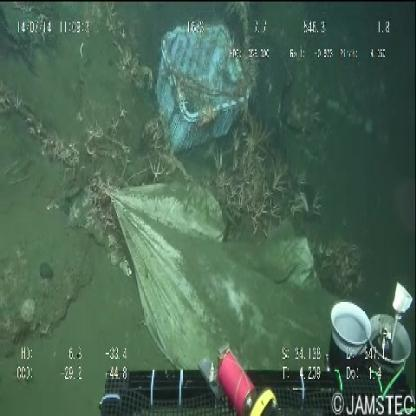Rov: (85, 265, 416, 416)
Rác: (152, 17, 251, 165)
